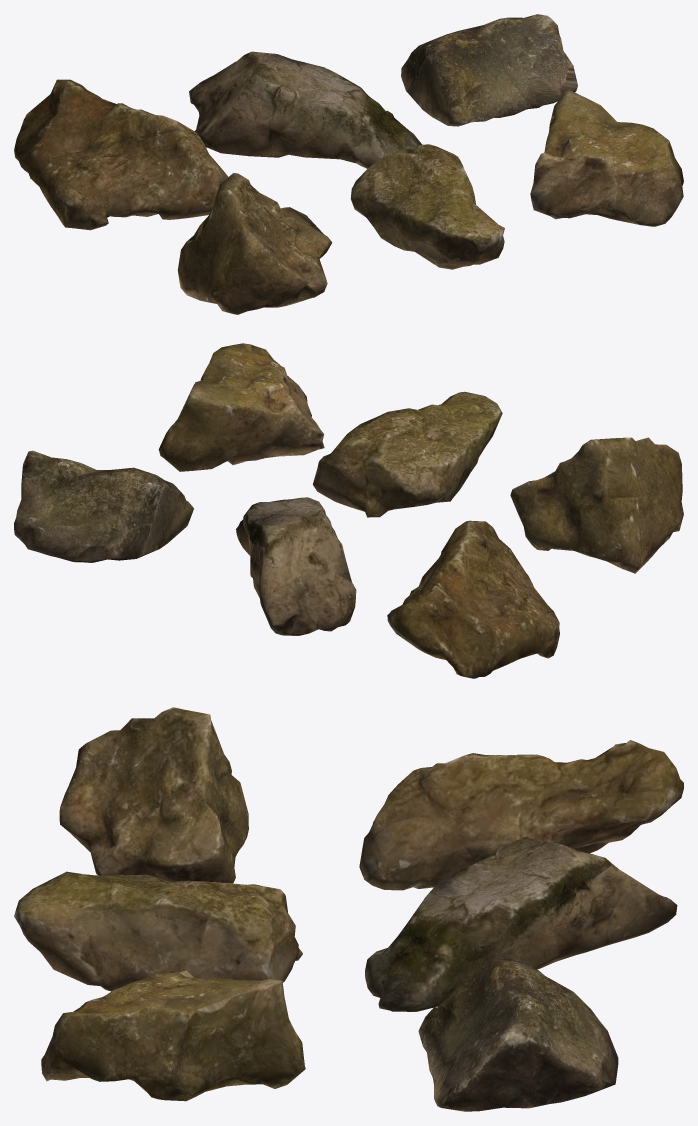
File: rock_moss_set_01.glb
3 renders of one model, top to bottom at view 1: azimuth 30°, elevation 25°; view 2: azimuth 150°, elevation 25°; view 3: azimuth 270°, elevation 25°, orthographic. The views are drawn at different scales.
Parts seen in each view (by area): view 1: rock_moss_set_01_rock01; view 2: rock_moss_set_01_rock01; view 3: rock_moss_set_01_rock01.
Boxes of the visible parts, x1,y1,x2,y2 form: rock_moss_set_01_rock01: (14,14,683,314); rock_moss_set_01_rock01: (14,343,683,678); rock_moss_set_01_rock01: (14,707,683,1111).
Size of the model in its own units: 8 by 1.76 by 6.94.
1 material, 1 textured.
